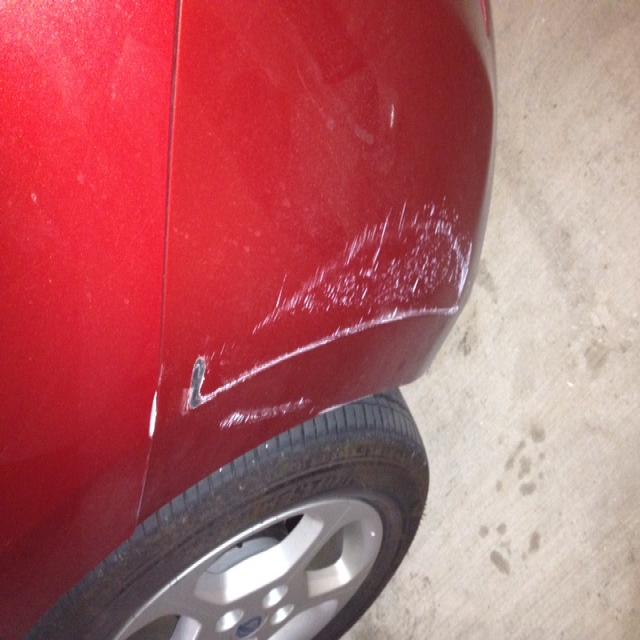scratch: (158, 239, 332, 635), (150, 194, 212, 221), (383, 518, 404, 529)
